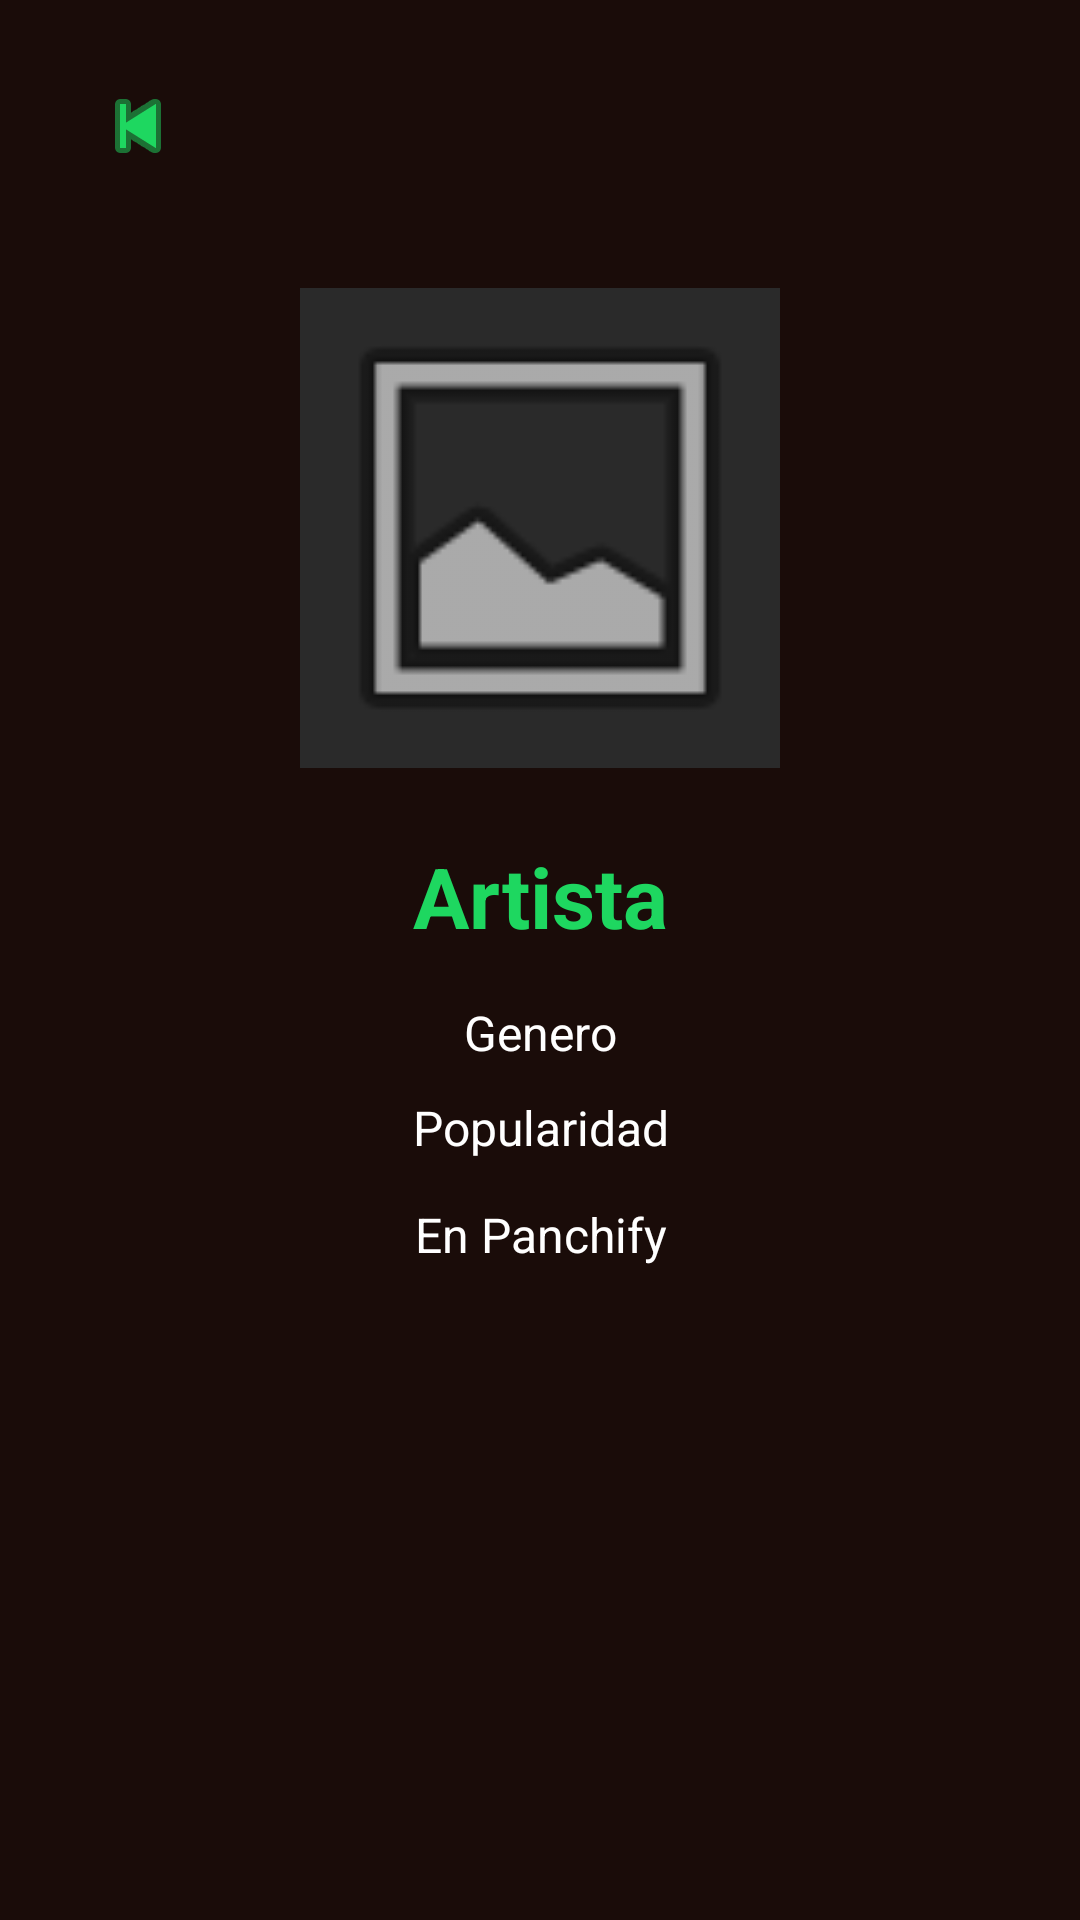

Icons on this 1080*1920 Android screen, each with the point to tap as point (x, y):
Volver: point (138, 126)
